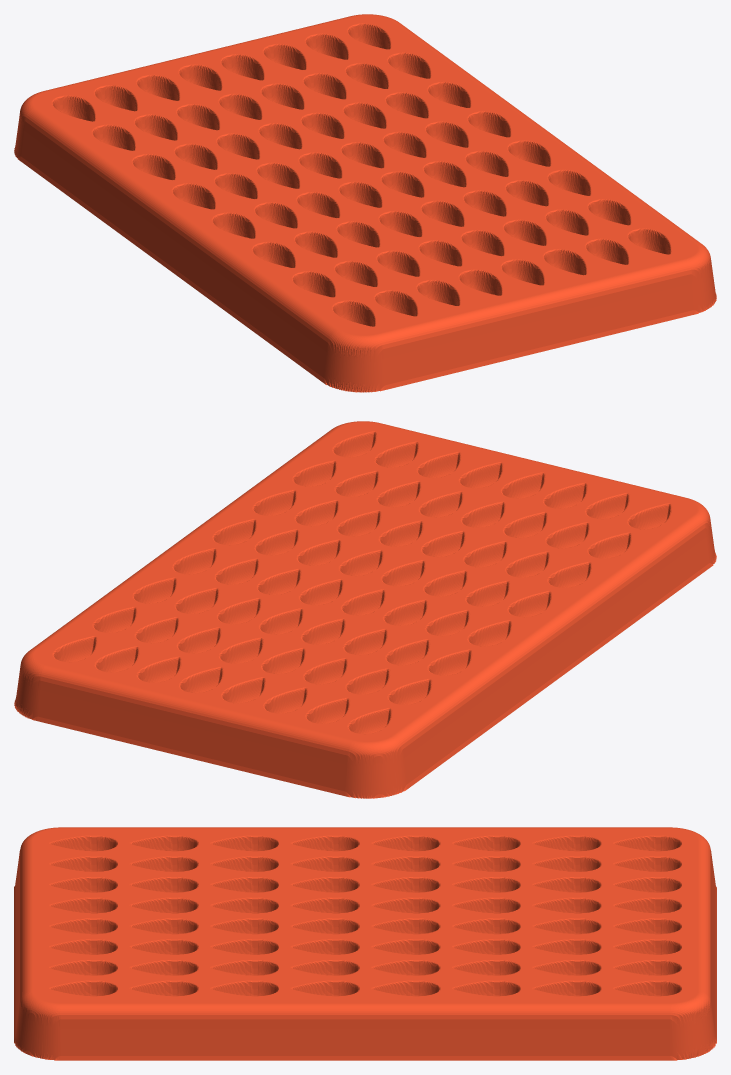
The model's file is mold.glb.
3 renders of one model, top to bottom at view 1: azimuth 30°, elevation 25°; view 2: azimuth 150°, elevation 25°; view 3: azimuth 270°, elevation 25°, orthographic.
Visible parts, largest first — view 1: geometry_0; view 2: geometry_0; view 3: geometry_0.
Part boxes in pixels (x1=…): geometry_0: x1=14, y1=14, x2=716, y2=392; geometry_0: x1=14, y1=421, x2=716, y2=798; geometry_0: x1=14, y1=827, x2=716, y2=1060.
Size of the model in its own units: 0.0869 by 0.0105 by 0.1355.
